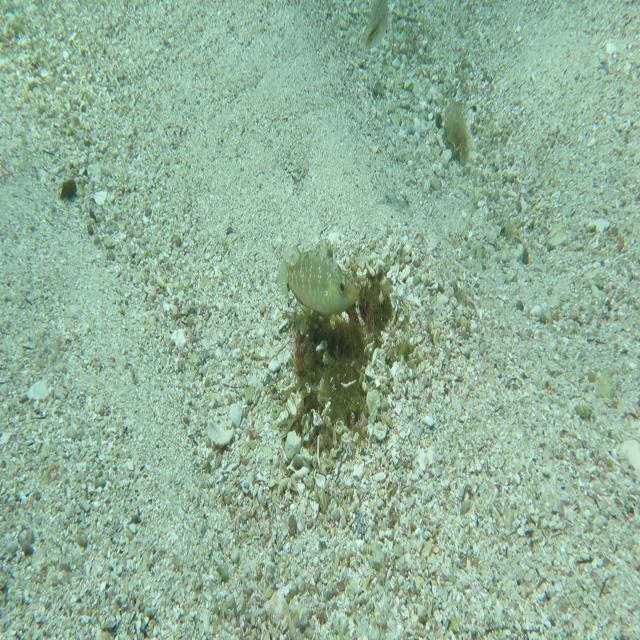FAN: (277, 238, 361, 318)
core_nest: (346, 289, 386, 328)
female: (362, 0, 389, 52)
nest: (285, 252, 414, 464)
vegetation: (439, 97, 472, 168), (57, 178, 78, 202)
